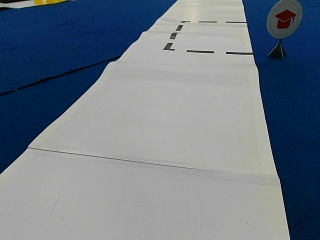school: (266, 1, 301, 37)
